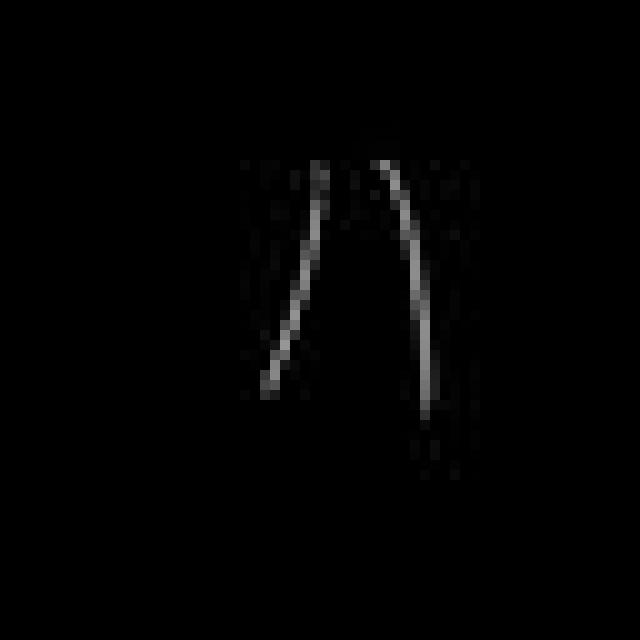8 -eight-: (241, 143, 445, 432)
